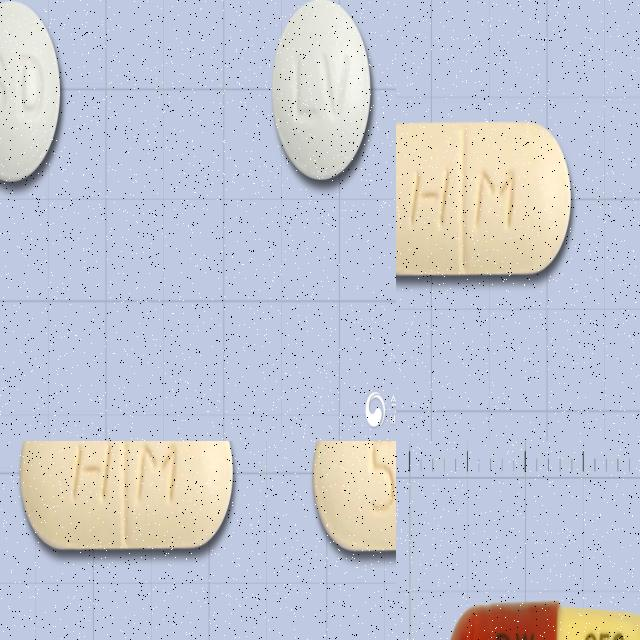Gomcillin Cap: (443, 602, 640, 640)
Levarox: (273, 0, 372, 180), (0, 0, 60, 185)
Levoxacin: (396, 121, 571, 275), (20, 441, 233, 549), (312, 441, 396, 553)
